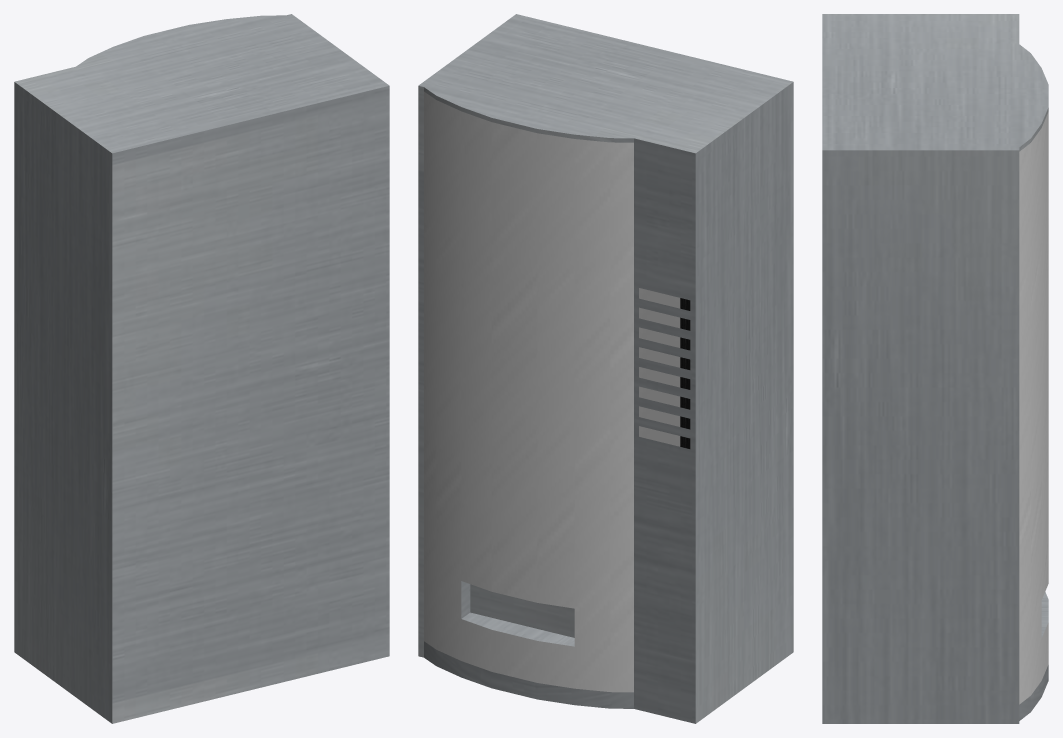
The model's file is Vending Machine SHC QuickOffice.fbx.
The picture shows the model from 3 angles, left to right: view 1: azimuth 30°, elevation 25°; view 2: azimuth 150°, elevation 25°; view 3: azimuth 270°, elevation 25°; orthographic projection.
Parts seen in each view (by area): view 1: Component_178_1; view 2: Component_178_1; view 3: Component_178_1.
Part boxes in pixels (x1,y1,x2,y2): Component_178_1: [14, 14, 389, 723]; Component_178_1: [418, 14, 793, 723]; Component_178_1: [822, 14, 1048, 723].
Size of what is drawn, in the model's own units: 1.38 by 2.7 by 0.9661.
